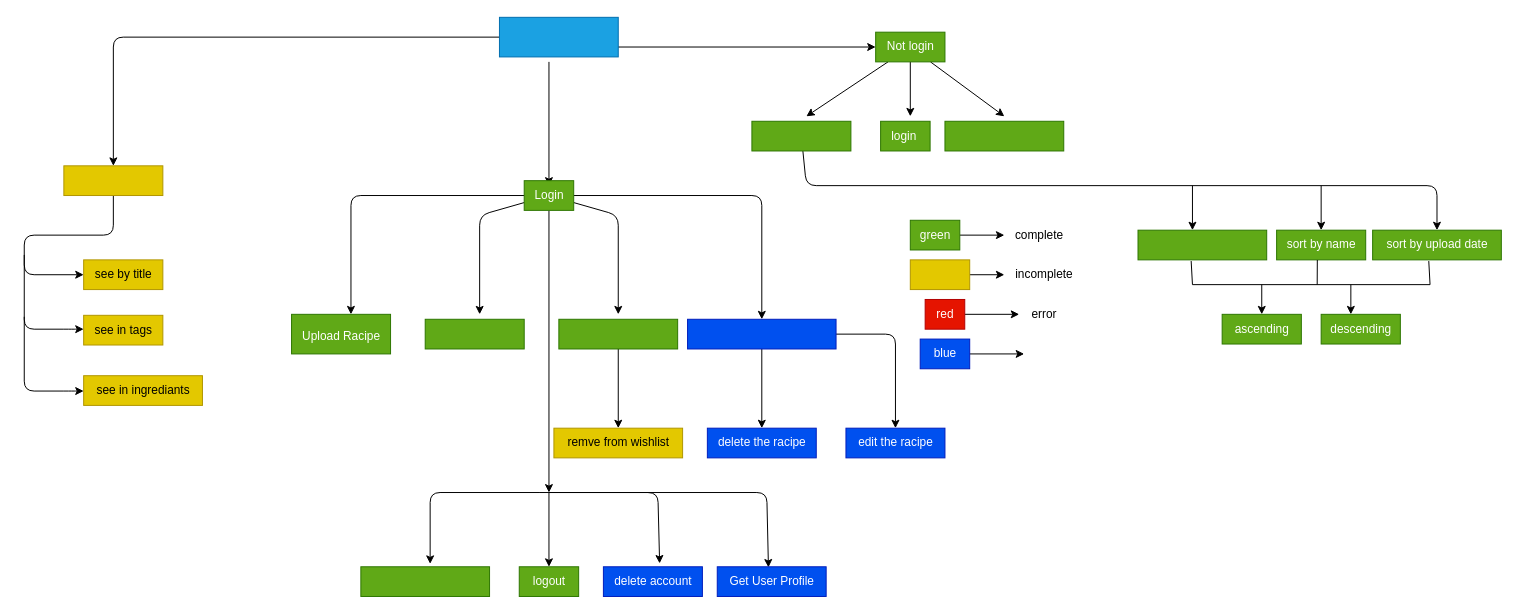
Image size: 1519x614. Some labels were removed from this diagram. Each missing label, with the box of its shape:
add to wishlist: (424, 318, 524, 349)
create an account: (944, 120, 1064, 151)
edit account details: (360, 566, 490, 596)
Search Recipe: (63, 165, 163, 196)
See all racipes: (751, 120, 851, 151)
see the uploaded racips: (687, 318, 836, 349)
see user wishlists: (558, 318, 678, 349)
sort by wishlist count: (1137, 229, 1267, 260)
user: (498, 16, 618, 57)
yellow: (909, 259, 970, 290)
